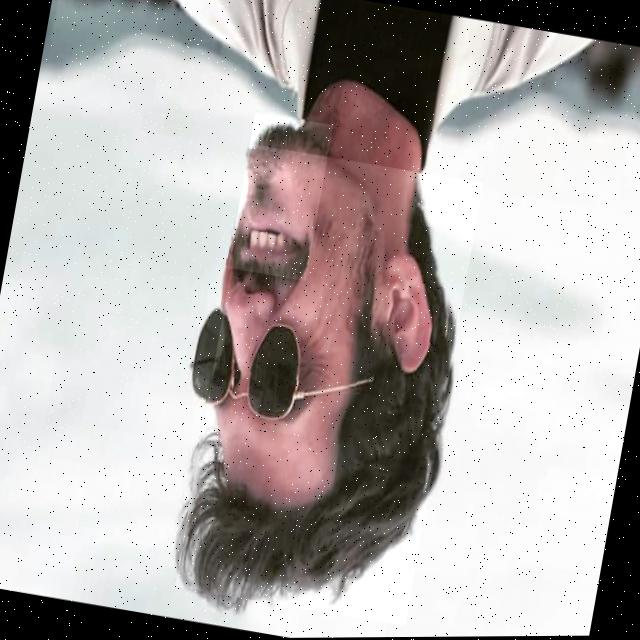beard: (231, 119, 327, 279)
hair: (183, 173, 452, 592)
